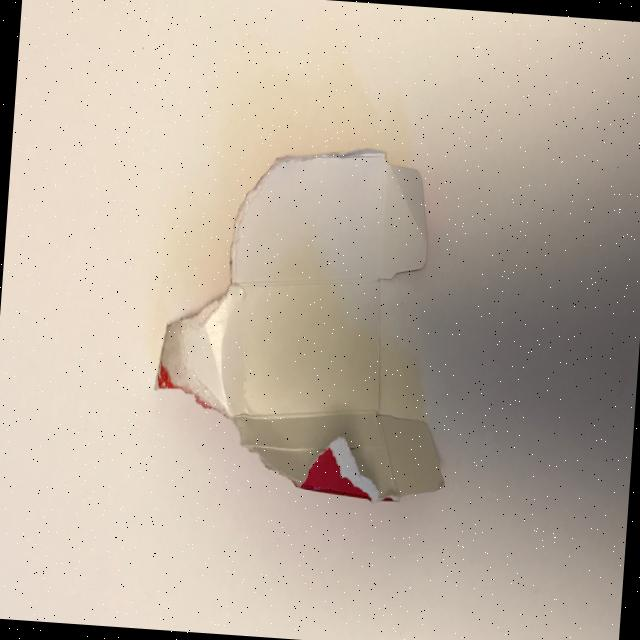paper: (148, 133, 468, 506)
